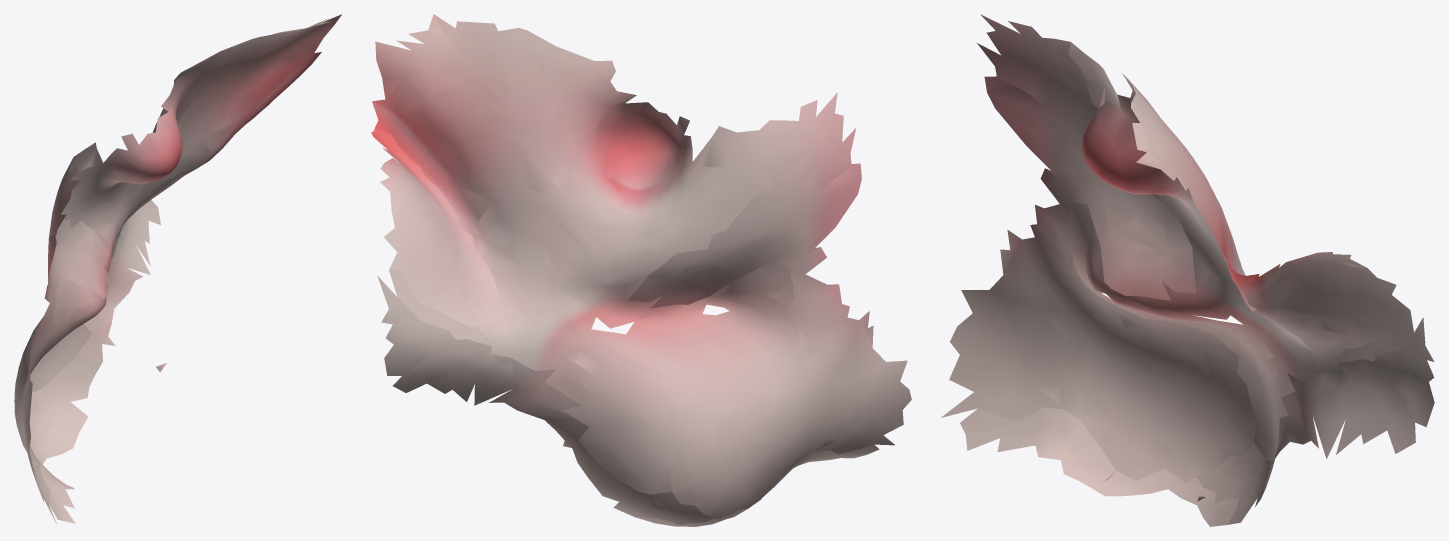
Rendered from Aussen2.glb.
3 renders of one model, left to right at view 1: azimuth 30°, elevation 25°; view 2: azimuth 150°, elevation 25°; view 3: azimuth 270°, elevation 25°, orthographic. The views are drawn at different scales.
Size of the model in its own units: 1.18 by 1.11 by 0.9583.
Materials: 1 (1 with a texture image).
